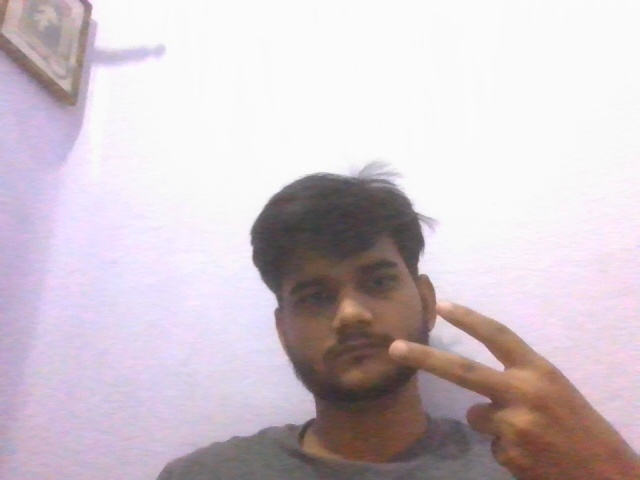yes: (385, 303, 630, 477)
